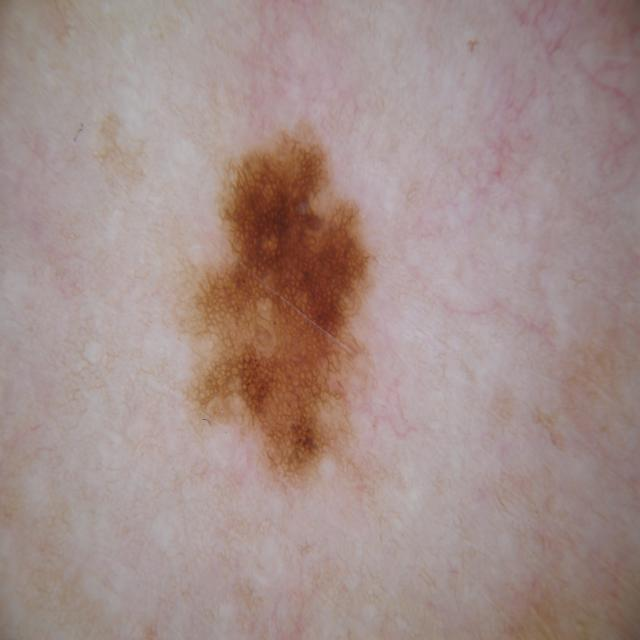Skin-Cancer Nevus: (120, 54, 592, 557)
